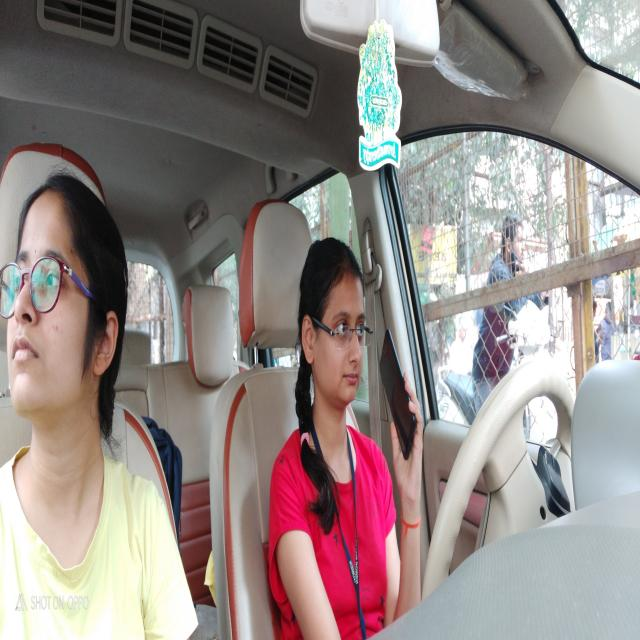mobile: (378, 331, 420, 461)
person: (4, 171, 120, 412), (298, 237, 370, 406)
